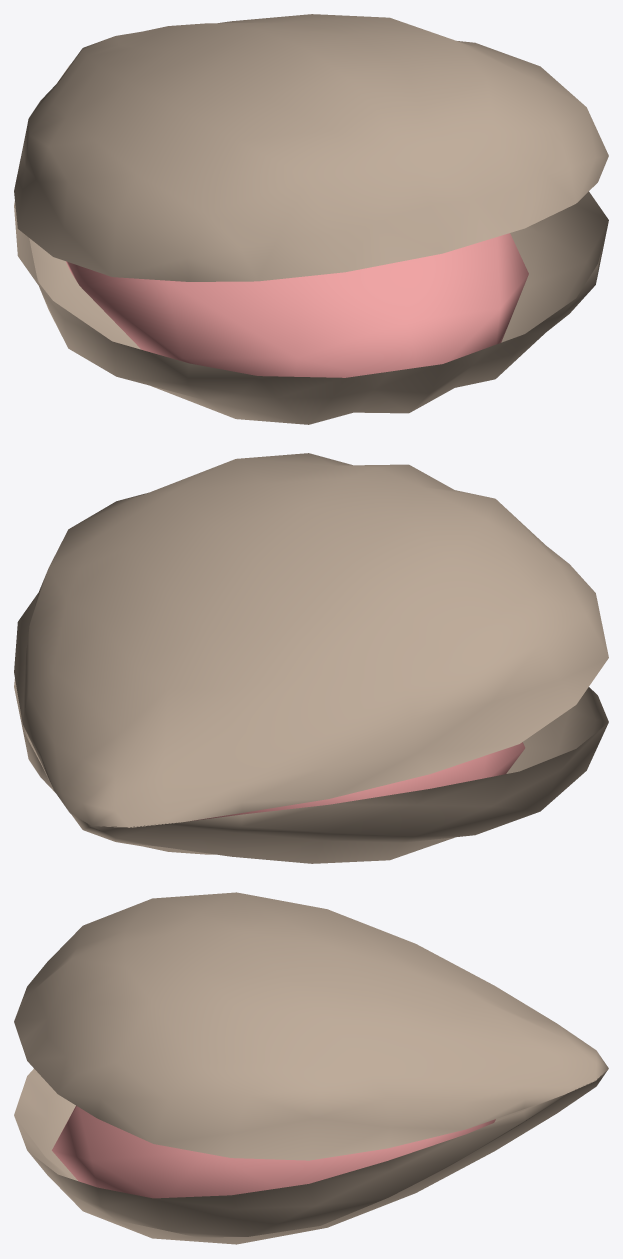
The model's file is NOVELO_CLAM.gltf.
The picture shows the model from 3 angles, top to bottom: view 1: azimuth 30°, elevation 25°; view 2: azimuth 150°, elevation 25°; view 3: azimuth 270°, elevation 25°; orthographic projection. The views are drawn at different scales.
Visible parts, largest first — view 1: node-0; view 2: node-0; view 3: node-0.
Boxes of the visible parts, bbox=[...] form: node-0: bbox=[14, 14, 608, 424]; node-0: bbox=[14, 453, 608, 863]; node-0: bbox=[14, 892, 608, 1244].
Size of the model in its own units: 172 by 101 by 200.
